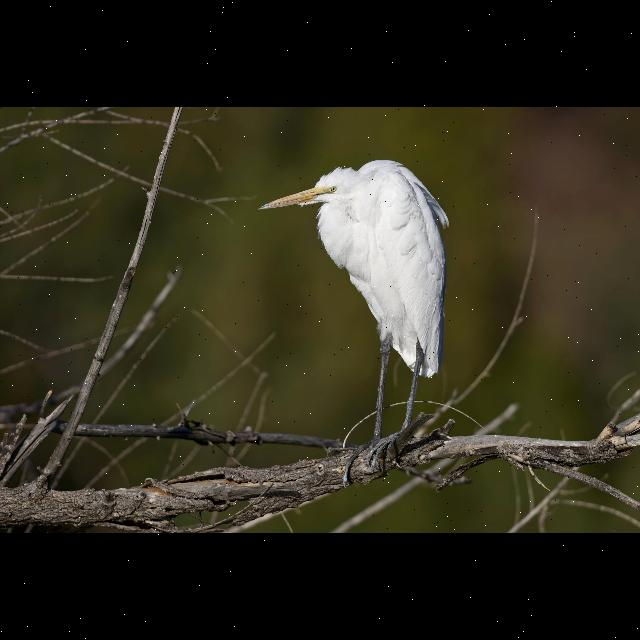egret: (255, 156, 442, 438)
